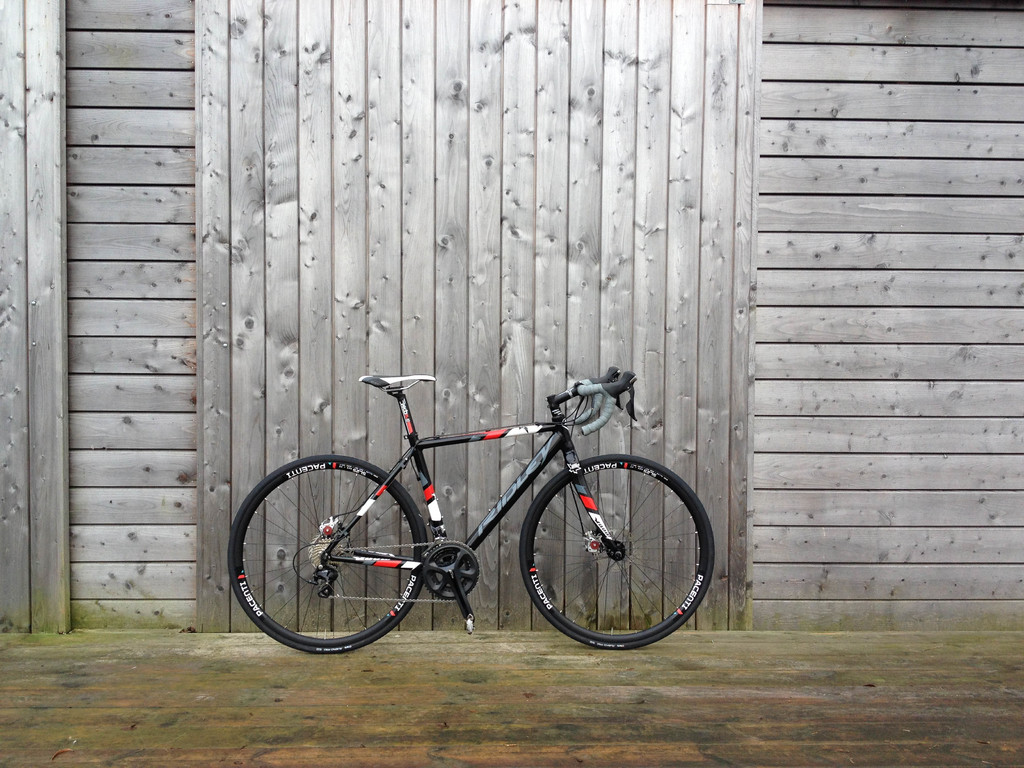Bike: (213, 353, 697, 667)
